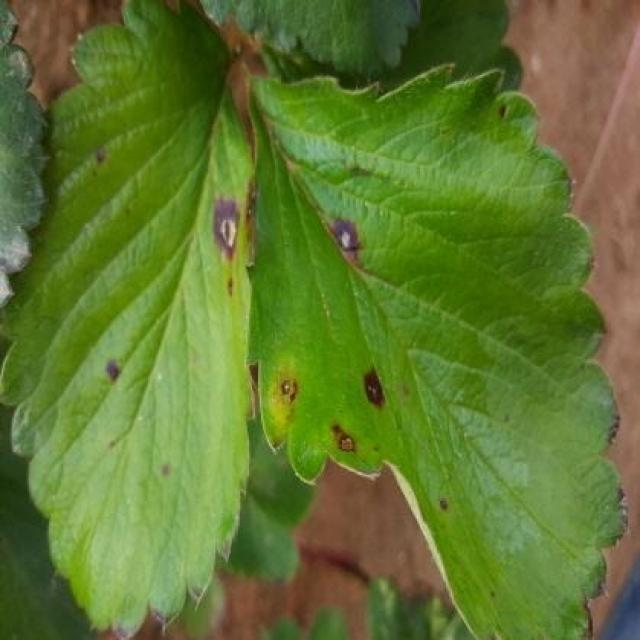Leaf Spot: (244, 62, 633, 638), (0, 0, 256, 638)
